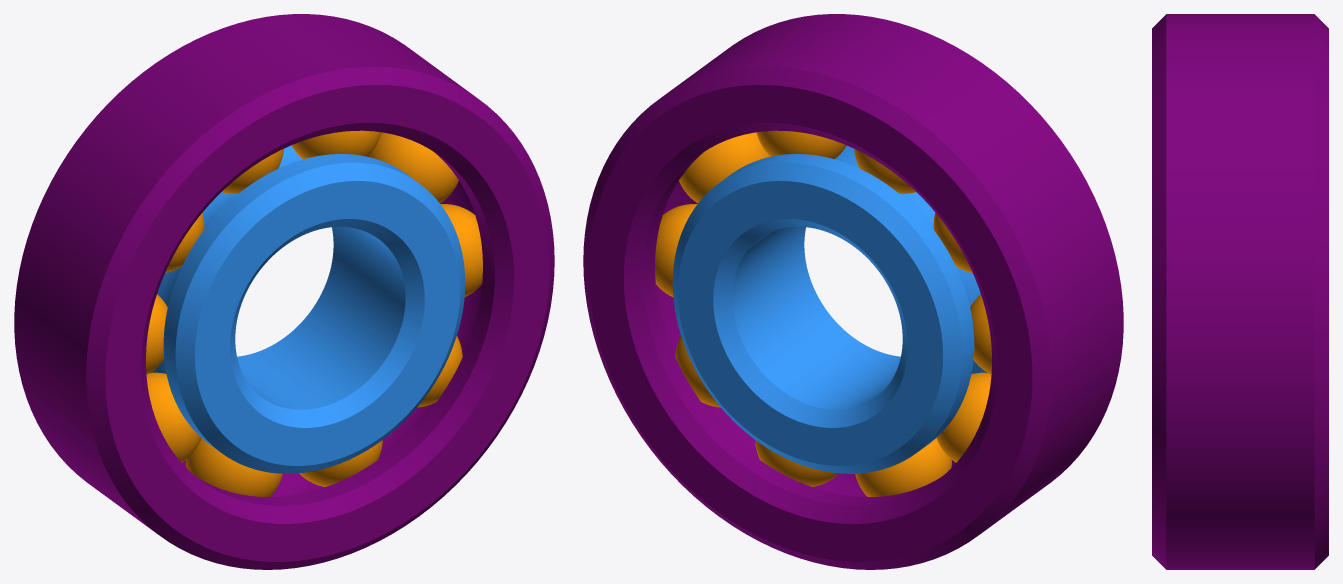
Rendered from assembly.glb.
3 views of the same model, side by side, from view 1: azimuth 30°, elevation 25°; view 2: azimuth 150°, elevation 25°; view 3: azimuth 270°, elevation 25° (orthographic). The views are drawn at different scales.
Visible parts, largest first — view 1: deep-groove-bearing-608/outer-ring, deep-groove-bearing-608/inner-ring, deep-groove-bearing-608/ball-2, deep-groove-bearing-608/ball-8, deep-groove-bearing-608/ball-7, deep-groove-bearing-608/ball-1, deep-groove-bearing-608/ball-3, deep-groove-bearing-608/ball-9, deep-groove-bearing-608/ball-6, deep-groove-bearing-608/ball-4, deep-groove-bearing-608/ball-10, deep-groove-bearing-608/ball-5; view 2: deep-groove-bearing-608/outer-ring, deep-groove-bearing-608/inner-ring, deep-groove-bearing-608/ball-2, deep-groove-bearing-608/ball-8, deep-groove-bearing-608/ball-7, deep-groove-bearing-608/ball-1, deep-groove-bearing-608/ball-3, deep-groove-bearing-608/ball-9, deep-groove-bearing-608/ball-6, deep-groove-bearing-608/ball-4, deep-groove-bearing-608/ball-10, deep-groove-bearing-608/ball-5; view 3: deep-groove-bearing-608/outer-ring.
Boxes of the visible parts, left/top/right/bottom form: deep-groove-bearing-608/outer-ring: left=14, top=14, right=554, bottom=569; deep-groove-bearing-608/inner-ring: left=150, top=145, right=465, bottom=473; deep-groove-bearing-608/ball-2: left=367, top=132, right=458, bottom=203; deep-groove-bearing-608/ball-8: left=186, top=438, right=282, bottom=496; deep-groove-bearing-608/ball-7: left=146, top=372, right=201, bottom=462; deep-groove-bearing-608/ball-1: left=440, top=204, right=482, bottom=296; deep-groove-bearing-608/ball-3: left=291, top=130, right=381, bottom=159; deep-groove-bearing-608/ball-9: left=299, top=440, right=382, bottom=486; deep-groove-bearing-608/ball-6: left=146, top=294, right=167, bottom=374; deep-groove-bearing-608/ball-4: left=222, top=149, right=283, bottom=193; deep-groove-bearing-608/ball-10: left=417, top=336, right=462, bottom=407; deep-groove-bearing-608/ball-5: left=165, top=213, right=204, bottom=273; deep-groove-bearing-608/outer-ring: left=583, top=14, right=1123, bottom=569; deep-groove-bearing-608/inner-ring: left=672, top=145, right=987, bottom=473; deep-groove-bearing-608/ball-2: left=679, top=132, right=770, bottom=203; deep-groove-bearing-608/ball-8: left=855, top=438, right=951, bottom=496; deep-groove-bearing-608/ball-7: left=936, top=372, right=991, bottom=462; deep-groove-bearing-608/ball-1: left=655, top=204, right=697, bottom=296; deep-groove-bearing-608/ball-3: left=756, top=130, right=846, bottom=159; deep-groove-bearing-608/ball-9: left=755, top=440, right=838, bottom=486; deep-groove-bearing-608/ball-6: left=970, top=294, right=991, bottom=374; deep-groove-bearing-608/ball-4: left=854, top=149, right=915, bottom=193; deep-groove-bearing-608/ball-10: left=675, top=336, right=720, bottom=407; deep-groove-bearing-608/ball-5: left=933, top=213, right=972, bottom=272; deep-groove-bearing-608/outer-ring: left=1152, top=14, right=1328, bottom=569.
Size of the model in its own units: 0.022 by 0.022 by 0.007.
